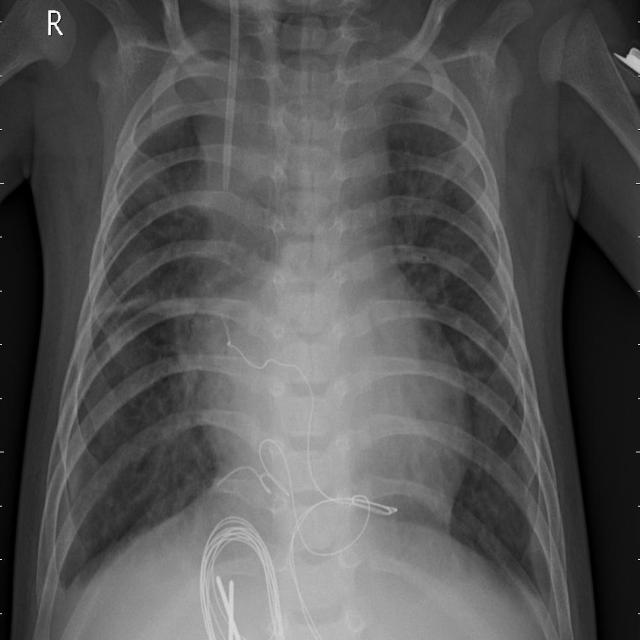low-pneumonia: (195, 69, 283, 286)
